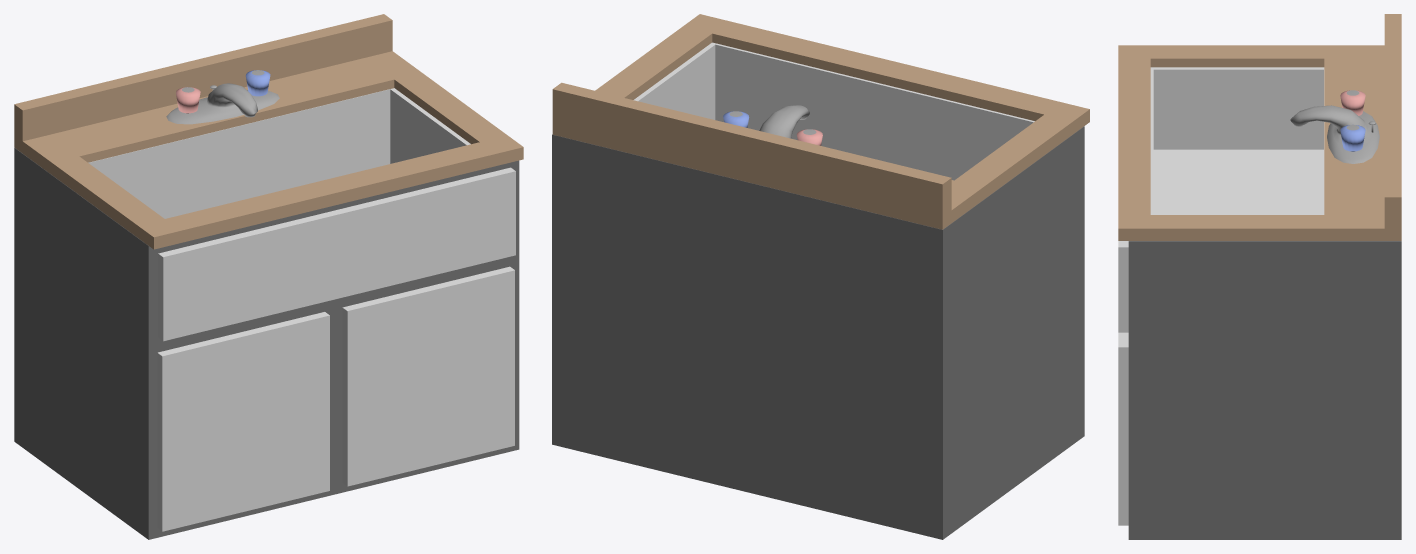
The model's file is Sink.fbx.
3 renders of one model, left to right at view 1: azimuth 30°, elevation 25°; view 2: azimuth 150°, elevation 25°; view 3: azimuth 270°, elevation 25°, orthographic. The views are drawn at different scales.
Visible parts, largest first — view 1: Cube.009; view 2: Cube.009; view 3: Cube.009.
Boxes of the visible parts, x1,y1,x2,y2 form: Cube.009: (14,14,523,539); Cube.009: (552,14,1089,539); Cube.009: (1118,14,1401,539).
Bounding box in the file's own units: 400 × 348 × 261.
